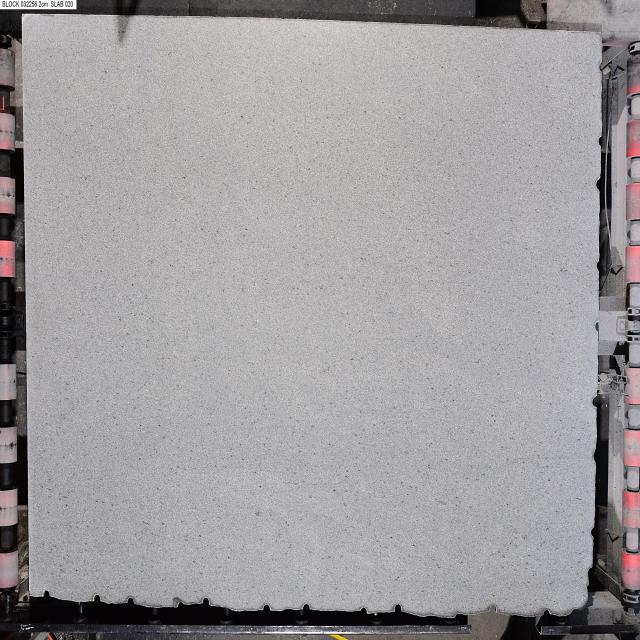chapa: (24, 15, 601, 616)
veio: (487, 602, 500, 618), (392, 602, 404, 618), (125, 595, 136, 612), (40, 588, 52, 603), (200, 596, 211, 612), (92, 591, 102, 607), (262, 601, 272, 615), (592, 391, 599, 411), (302, 601, 311, 616)
